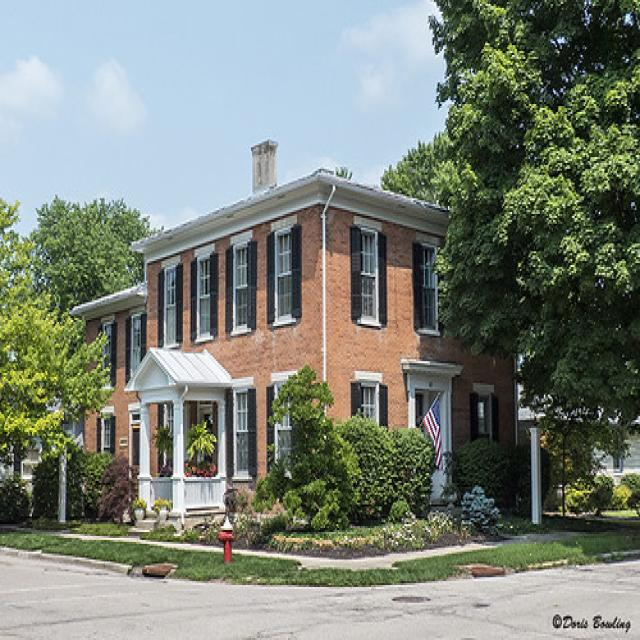building: (69, 164, 521, 560)
